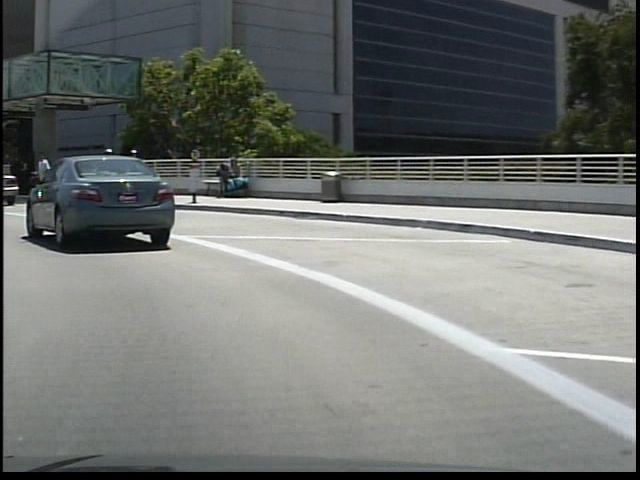person: (26, 150, 51, 210), (122, 147, 143, 202), (95, 145, 116, 200)
